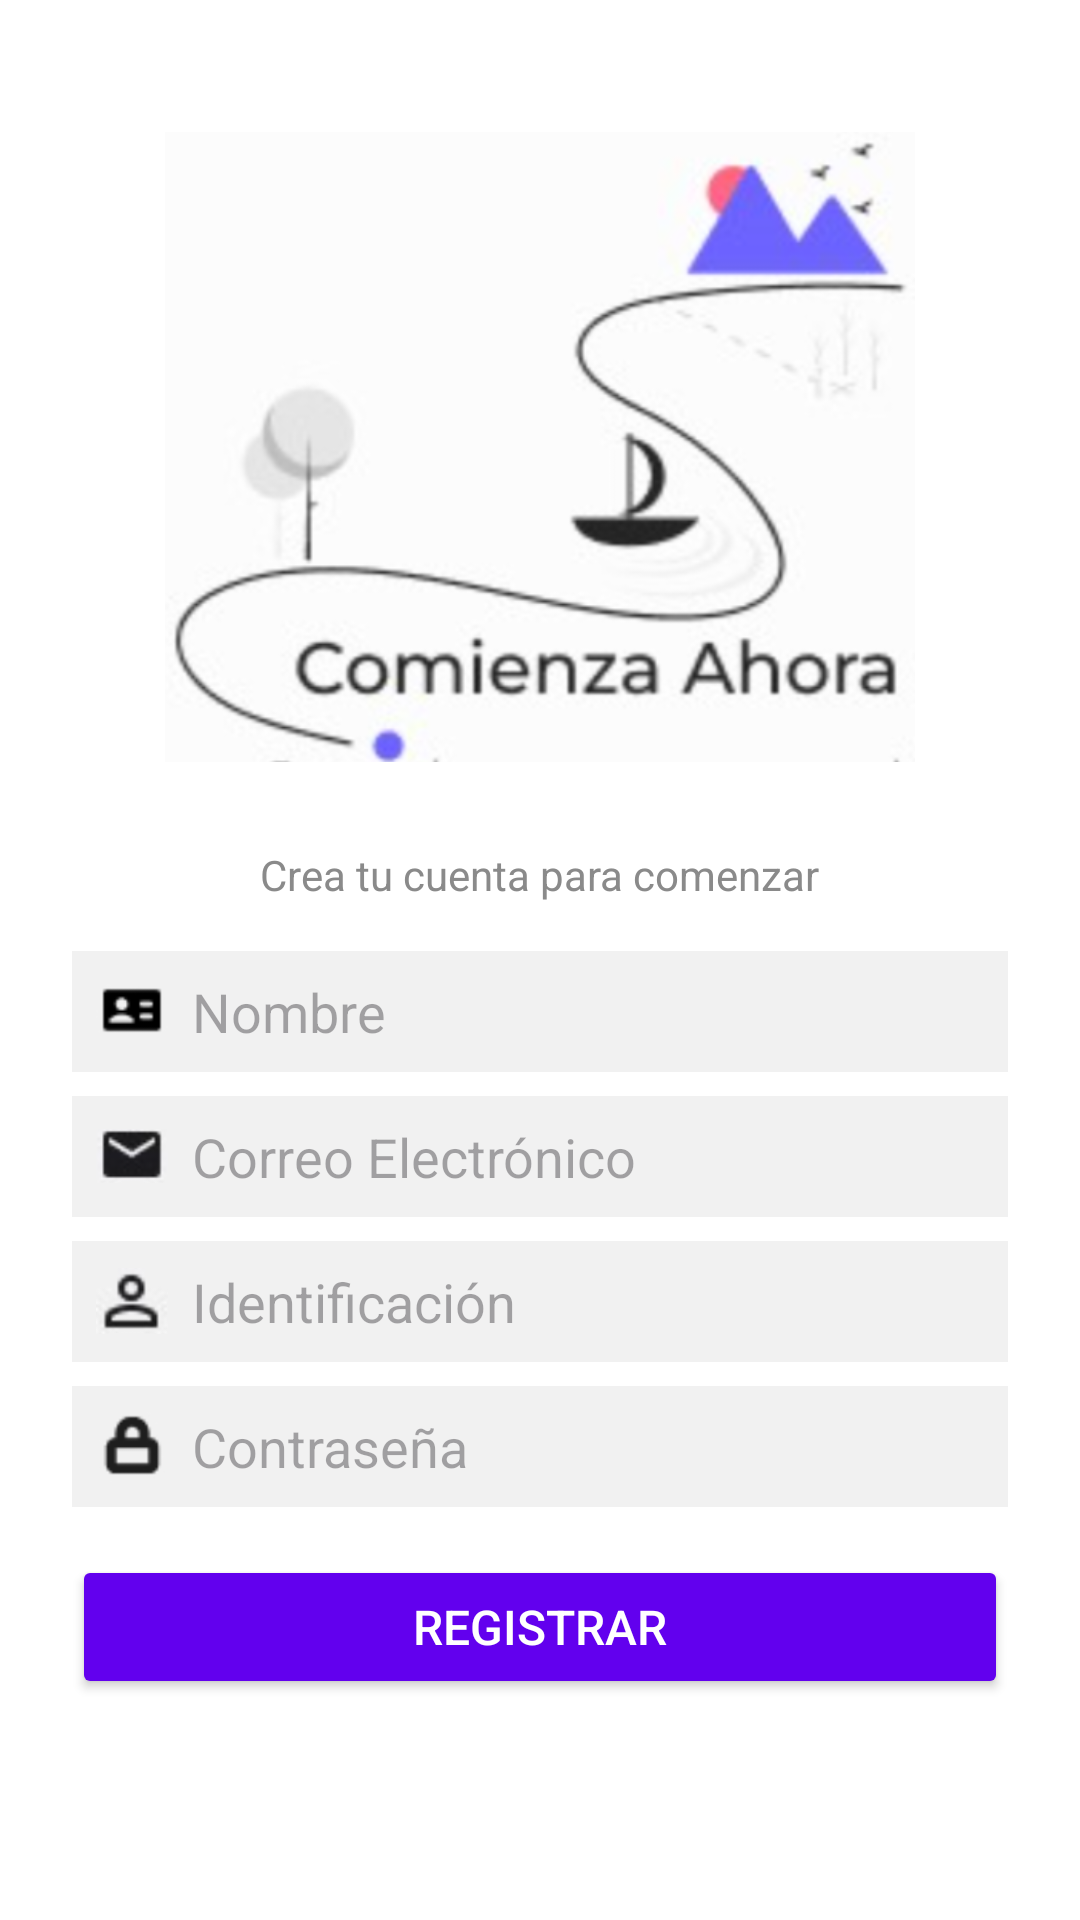

Icon bounding boxes for this 1080 × 1920 phone screenshot, format (x1, y1, x2, y2):
email: (102, 1130, 162, 1178)
password: (104, 1416, 161, 1475)
